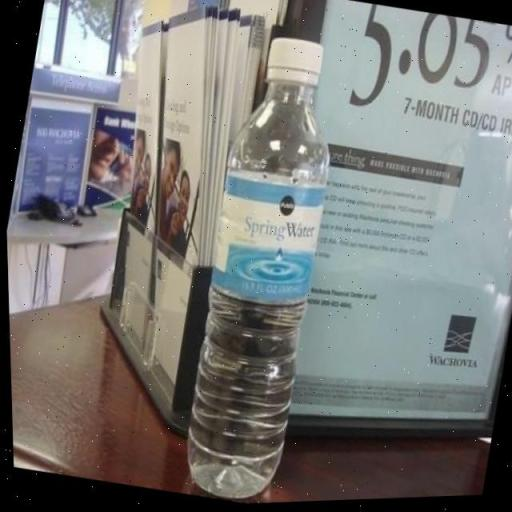plastic: (154, 26, 365, 508)
